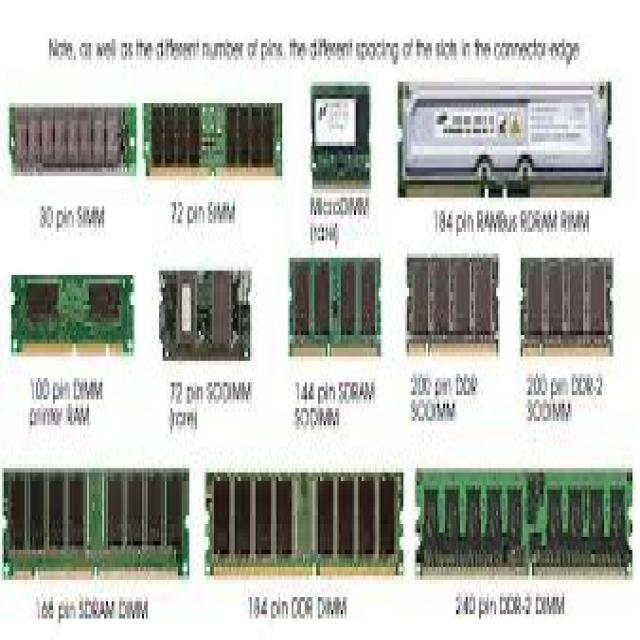Ram: (17, 49, 613, 617)
